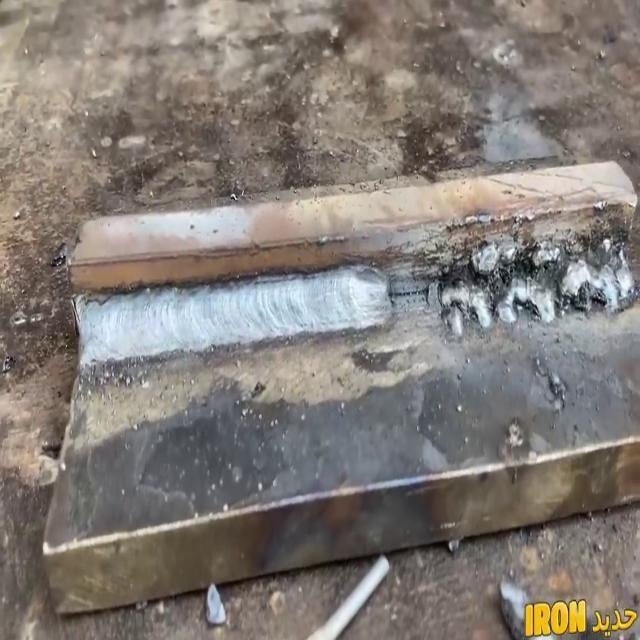Bad Welding: (427, 221, 640, 343)
